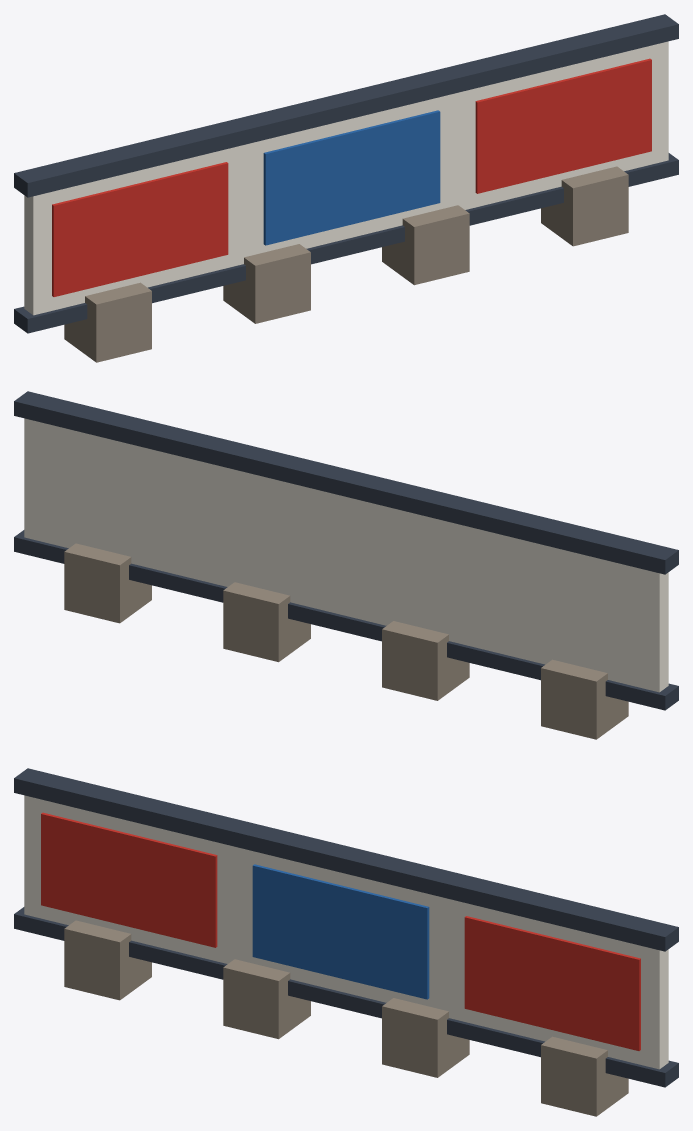
File: billboardLow.glb
3 views of the same model, one above another, from view 1: azimuth 30°, elevation 25°; view 2: azimuth 150°, elevation 25°; view 3: azimuth 330°, elevation 25° (orthographic).
Parts seen in each view (by area): view 1: billboardLow_red, billboardLow_white, billboardLow_steelDark, billboardLow_concreteDark, billboardLow_blue; view 2: billboardLow_white, billboardLow_steelDark, billboardLow_concreteDark; view 3: billboardLow_red, billboardLow_white, billboardLow_steelDark, billboardLow_concreteDark, billboardLow_blue.
Part boxes in pixels (left/top/right/bottom): billboardLow_red: left=52, top=58, right=651, bottom=296; billboardLow_white: left=24, top=41, right=668, bottom=315; billboardLow_steelDark: left=14, top=14, right=678, bottom=333; billboardLow_concreteDark: left=64, top=166, right=628, bottom=362; billboardLow_blue: left=263, top=110, right=440, bottom=245; billboardLow_white: left=24, top=418, right=668, bottom=692; billboardLow_steelDark: left=14, top=391, right=678, bottom=710; billboardLow_concreteDark: left=64, top=543, right=628, bottom=739; billboardLow_red: left=41, top=812, right=640, bottom=1050; billboardLow_white: left=24, top=795, right=668, bottom=1069; billboardLow_steelDark: left=14, top=768, right=678, bottom=1087; billboardLow_concreteDark: left=64, top=920, right=628, bottom=1116; billboardLow_blue: left=252, top=864, right=429, bottom=999.
Size of the model in its own units: 16.4 by 4.51 by 1.4.
